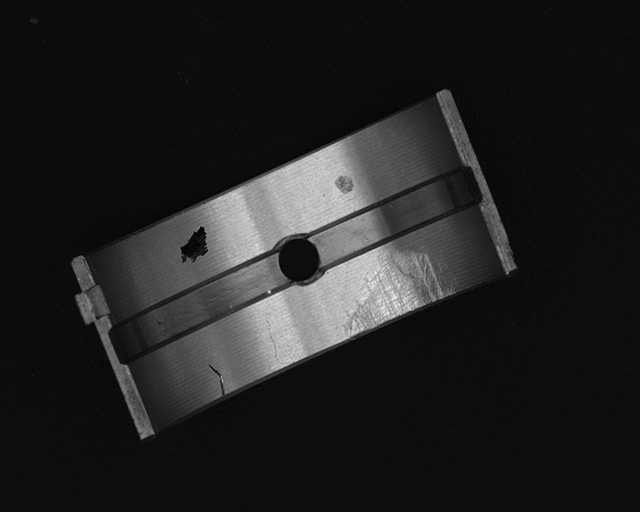blot: (179, 226, 209, 266)
bruise: (335, 175, 354, 195)
gap: (109, 249, 286, 360), (308, 165, 482, 268)
hole: (274, 234, 321, 288)
nick: (208, 365, 226, 399), (266, 319, 280, 359)
scratch: (342, 250, 458, 339)
